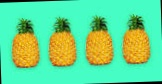Pineapple: (11, 18, 40, 68), (48, 18, 77, 67), (86, 16, 114, 66), (122, 13, 150, 63)
